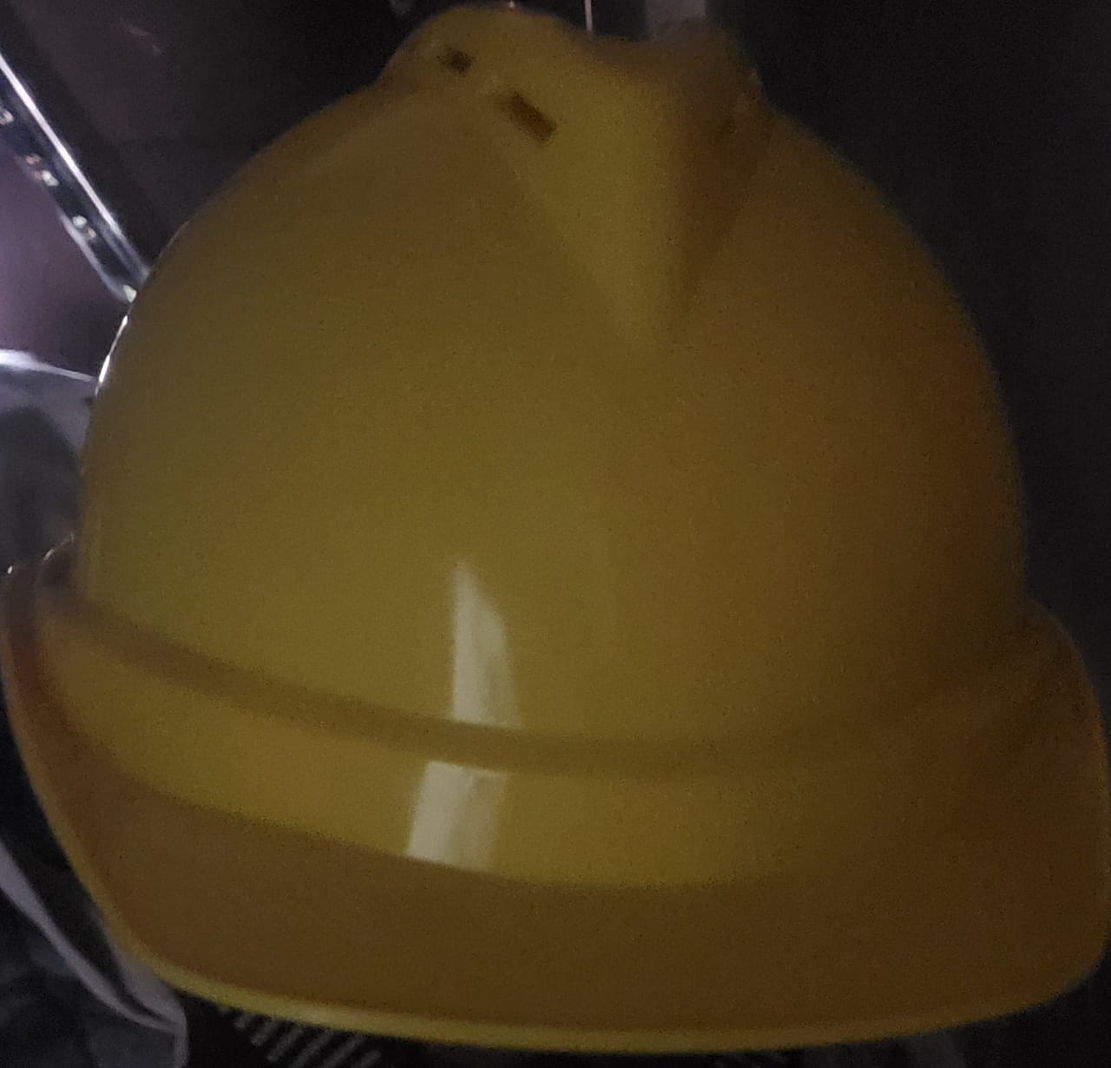helment: (26, 7, 1094, 1068)
